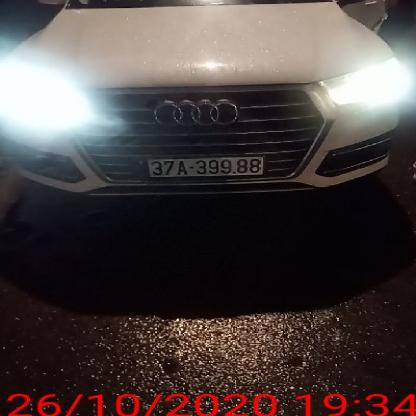biensoxe: (146, 153, 267, 180)
